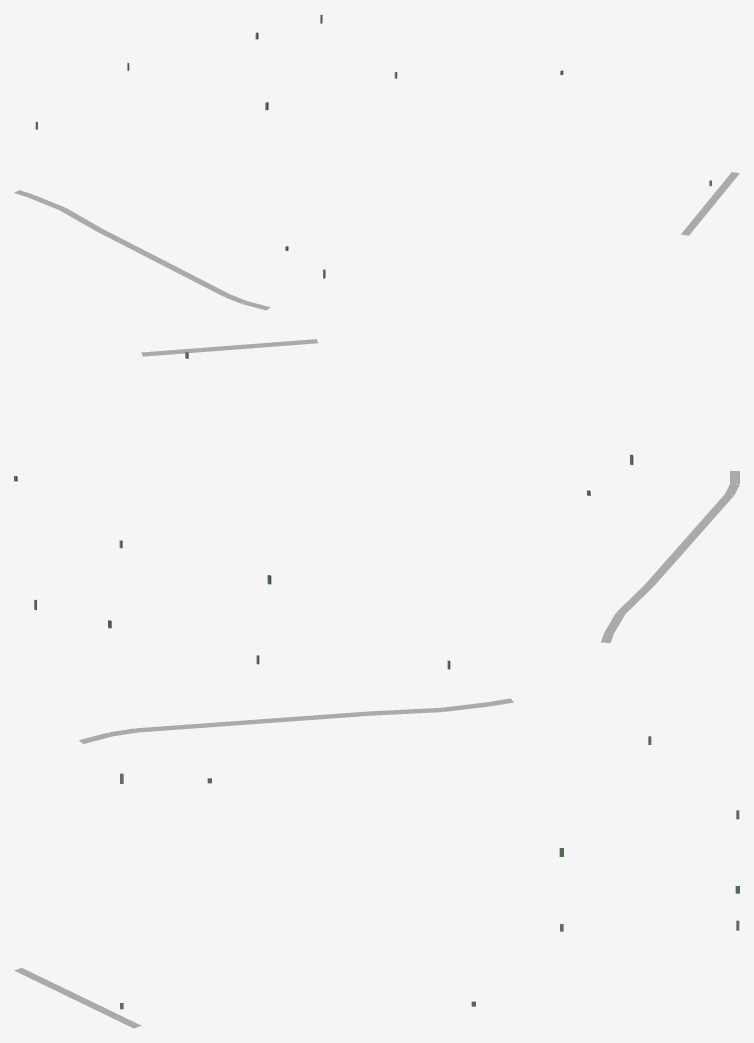
3 renders of one model, top to bottom at view 1: azimuth 30°, elevation 25°; view 2: azimuth 150°, elevation 25°; view 3: azimuth 270°, elevation 25°, orthographic. The views are drawn at different scales.
Bounding box in the file's own units: 528 × 10.81 × 495.
